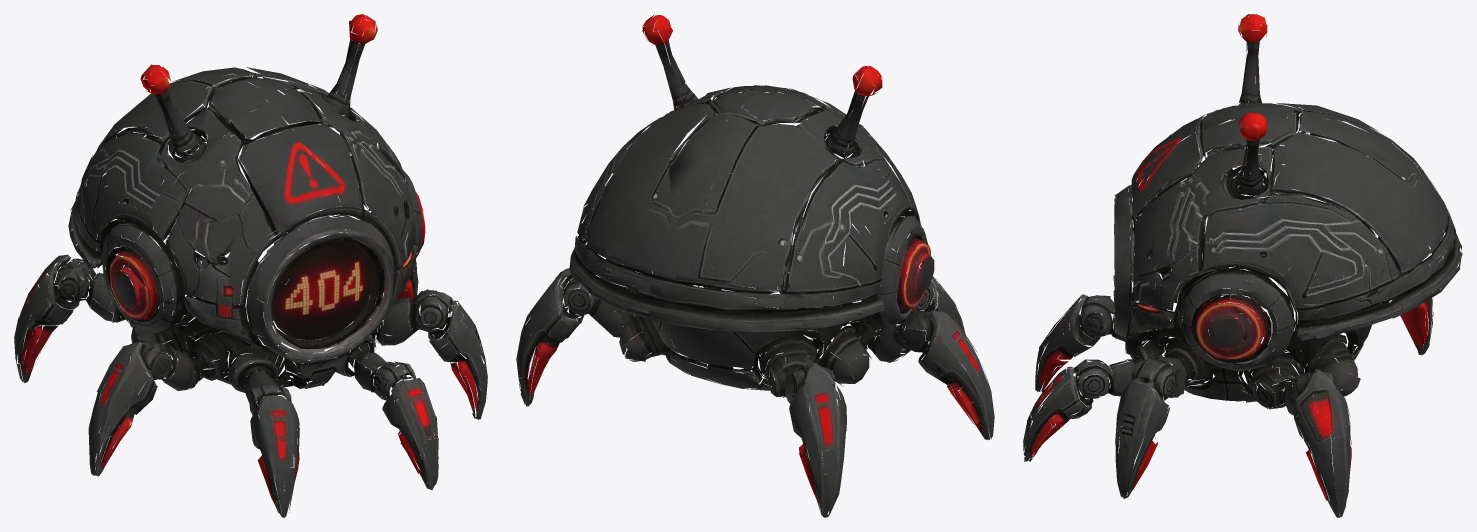
Rendered from robot-404.glb.
The picture shows the model from 3 angles, left to right: view 1: azimuth 30°, elevation 25°; view 2: azimuth 150°, elevation 25°; view 3: azimuth 270°, elevation 25°; orthographic projection. The views are drawn at different scales.
Visible parts, largest first — view 1: EN_robot-404; view 2: EN_robot-404; view 3: EN_robot-404.
Part boxes in pixels (<box>): EN_robot-404: <box>14,14,487,517</box>; EN_robot-404: <box>516,14,994,517</box>; EN_robot-404: <box>1023,14,1462,517</box>.
Size of the model in its own units: 1.1 by 1 by 1.07.
1 material, 1 textured.
